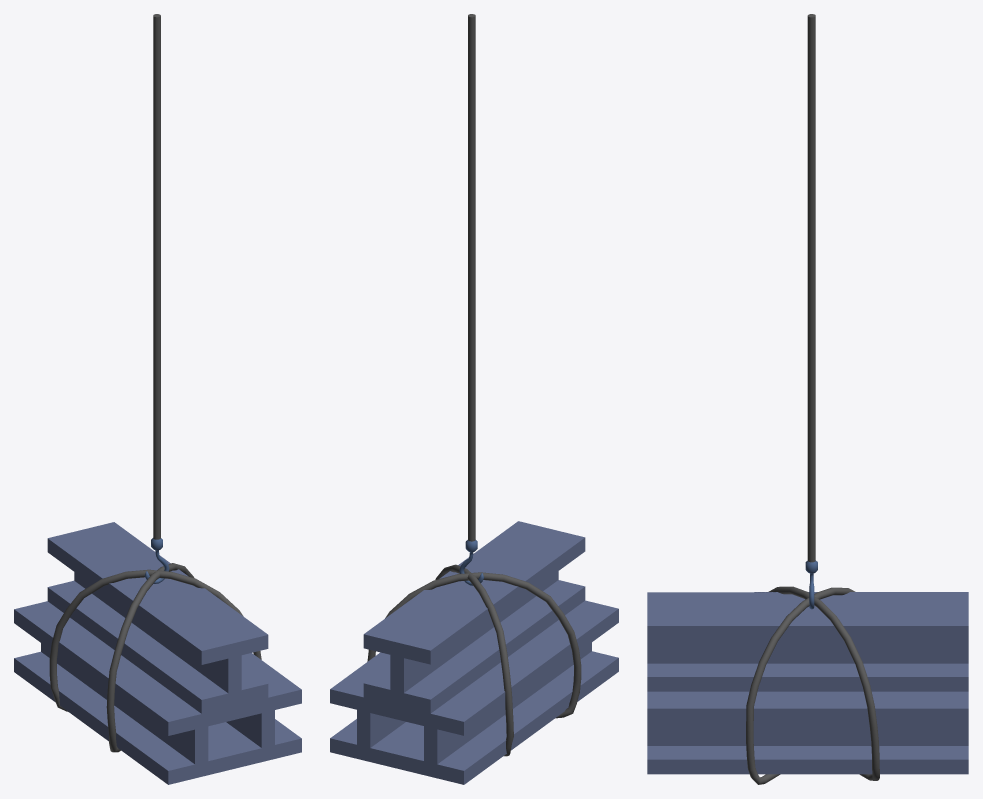
The model's file is Weight.fbx.
3 views of the same model, side by side, from view 1: azimuth 30°, elevation 25°; view 2: azimuth 150°, elevation 25°; view 3: azimuth 270°, elevation 25° (orthographic). The views are drawn at different scales.
Parts seen in each view (by area): view 1: Cube.012, Cylinder.014, Cylinder.012, Cylinder.011; view 2: Cube.012, Cylinder.014, Cylinder.011, Cylinder.012; view 3: Cube.012, Cylinder.014, Cylinder.012, Cylinder.011.
Boxes of the visible parts, <box> form: Cube.012: <box>14,522,301,784</box>; Cylinder.014: <box>153,14,160,539</box>; Cylinder.012: <box>49,569,261,711</box>; Cylinder.011: <box>106,563,194,752</box>; Cube.012: <box>330,521,618,784</box>; Cylinder.014: <box>468,14,475,541</box>; Cylinder.011: <box>367,572,581,718</box>; Cylinder.012: <box>435,564,513,756</box>; Cube.012: <box>647,592,968,774</box>; Cylinder.014: <box>807,14,815,562</box>; Cylinder.012: <box>746,587,855,784</box>; Cylinder.011: <box>768,586,879,780</box>.
Size of the model in its own units: 2.34 by 10.08 by 4.
